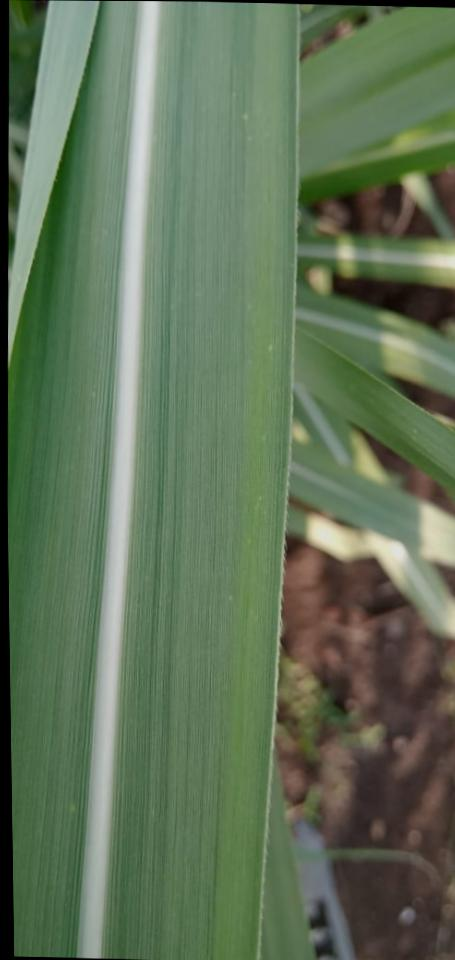Healthy: (8, 1, 296, 960), (7, 0, 98, 363)
